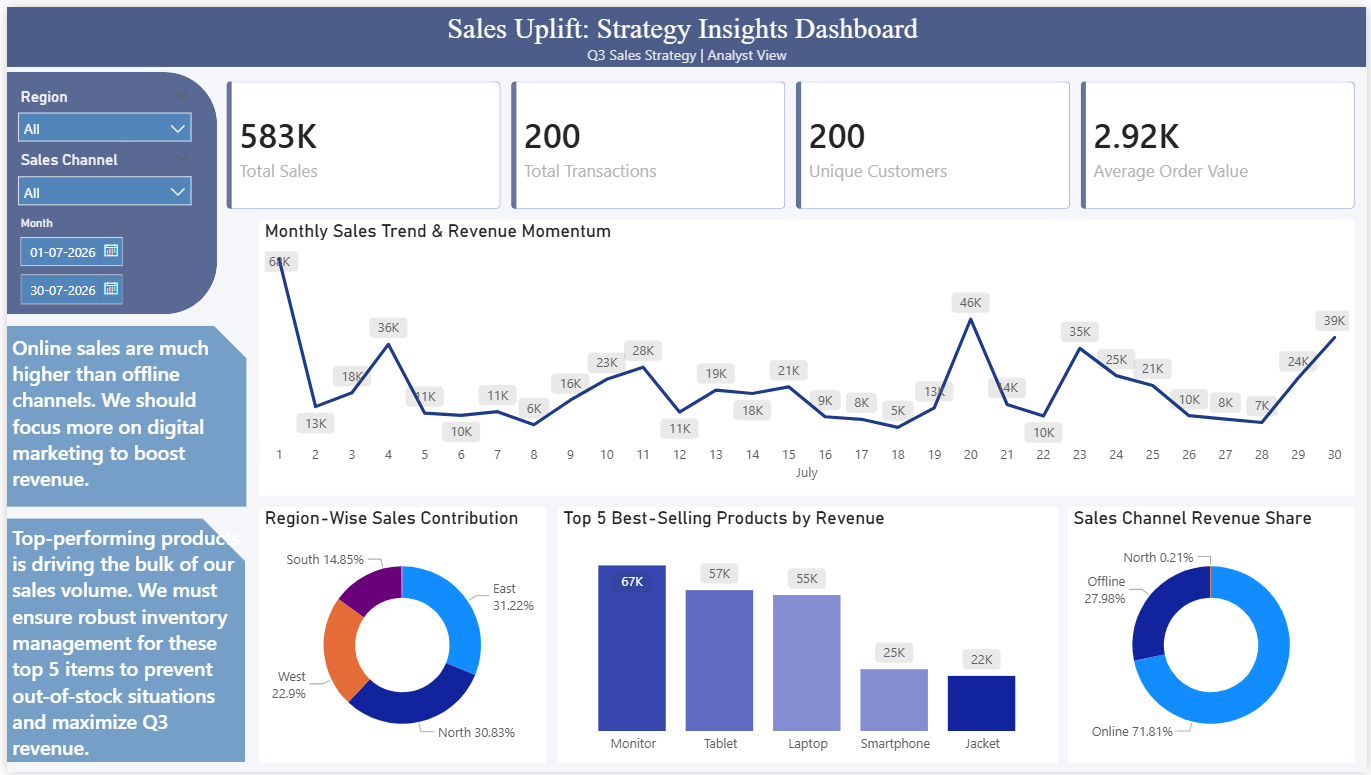

The page's visual inventory and layout, read from the dashboard file:
{"tool":"powerbi","page":{"name":"Page 1","canvas":[1280,720],"ordinal":0},"visuals":[{"type":"shape","box":[0,0,1279.5,56.4],"z":0},{"type":"textbox","box":[409,0,462.8,46.2],"z":1000},{"type":"textbox","box":[541,30.8,201.3,30.8],"z":2000},{"type":"cardVisual","fields":{"Data":["Measure Table.Total Sales","Measure Table.Total Transactions","Measure Table.Unique Customers","Measure Table.Average Order Value"]},"box":[197.4,61.5,1082.1,138.5],"z":2001},{"type":"shape","box":[0,61.5,197.9,228],"z":2005},{"type":"slicer","fields":{"Values":["RetailTransaction.Region"]},"box":[0,70.5,183.3,60.3],"z":2006},{"type":"slicer","fields":{"Values":["RetailTransaction.SalesChannel"]},"box":[0,130.8,183.3,69.2],"z":2007},{"type":"slicer","fields":{"Values":["RetailTransaction.Date"]},"box":[0,191.9,183.2,98.1],"z":2008},{"type":"lineChart","title":"Monthly Sales Trend & Revenue Momentum","fields":{"Category":["RetailTransaction.Date.Variation.Date Hierarchy.Month","RetailTransaction.Date.Variation.Date Hierarchy.Day"],"Y":["Measure Table.Total Sales"]},"box":[237.2,200,1030.8,260.3],"z":2009},{"type":"donutChart","title":"Region-Wise Sales Contribution","fields":{"Category":["RetailTransaction.Region"],"Y":["Measure Table.Total Sales"]},"box":[237.2,470.5,269.2,241],"z":2010},{"type":"clusteredColumnChart","title":"Top 5 Best-Selling Products by Revenue","fields":{"Category":["RetailTransaction.ProductName"],"Y":["Sum(RetailTransaction.TotalAmount)"]},"box":[519.2,470.5,470.5,241],"z":2011},{"type":"shape","box":[0,300,225.6,170.5],"z":2013},{"type":"shape","box":[0,480.8,224.4,229.5],"z":2014},{"type":"textbox","box":[0,302.6,225.6,161.5],"z":2015},{"type":"textbox","box":[0,480.8,237.2,239.7],"z":2016},{"type":"donutChart","title":"Sales Channel Revenue Share","fields":{"Category":["RetailTransaction.SalesChannel"],"Y":["Measure Table.Total Sales"]},"box":[998.7,470.5,269.2,241],"z":2017}]}

Visuals, with their boxes in screenshot pixels (x1, y1, x2, y2), scaled from the page's 1280x720 canvas onto the 1371x775 screenshot:
shape: (left=0, top=0, right=1370, bottom=61)
textbox: (left=438, top=0, right=934, bottom=50)
textbox: (left=579, top=33, right=795, bottom=66)
cardVisual - Measure Table.Total Sales x Measure Table.Total Transactions: (left=211, top=66, right=1370, bottom=215)
shape: (left=0, top=66, right=212, bottom=312)
slicer - RetailTransaction.Region: (left=0, top=76, right=196, bottom=141)
slicer - RetailTransaction.SalesChannel: (left=0, top=141, right=196, bottom=215)
slicer - RetailTransaction.Date: (left=0, top=207, right=196, bottom=312)
"Monthly Sales Trend & Revenue Momentum" lineChart: (left=254, top=215, right=1358, bottom=495)
"Region-Wise Sales Contribution" donutChart: (left=254, top=506, right=542, bottom=766)
"Top 5 Best-Selling Products by Revenue" clusteredColumnChart: (left=556, top=506, right=1060, bottom=766)
shape: (left=0, top=323, right=242, bottom=506)
shape: (left=0, top=518, right=240, bottom=765)
textbox: (left=0, top=326, right=242, bottom=500)
textbox: (left=0, top=518, right=254, bottom=774)
"Sales Channel Revenue Share" donutChart: (left=1070, top=506, right=1358, bottom=766)
